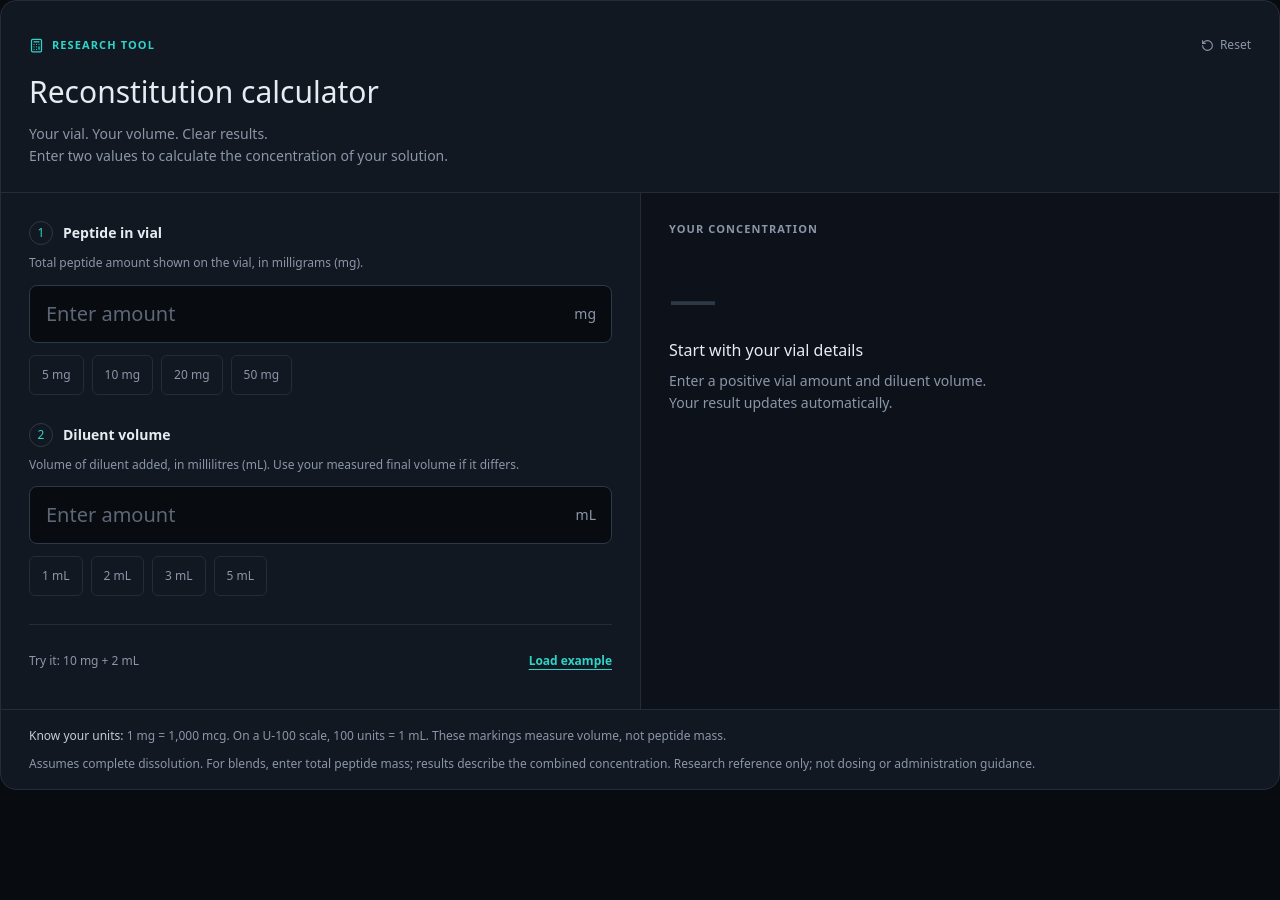
starts without assumed quantities and calculates live from both inputs
Type "10" into the field labelled "Peptide in vial" at (320, 314), box top-left (29, 284), bottom-right (612, 342)
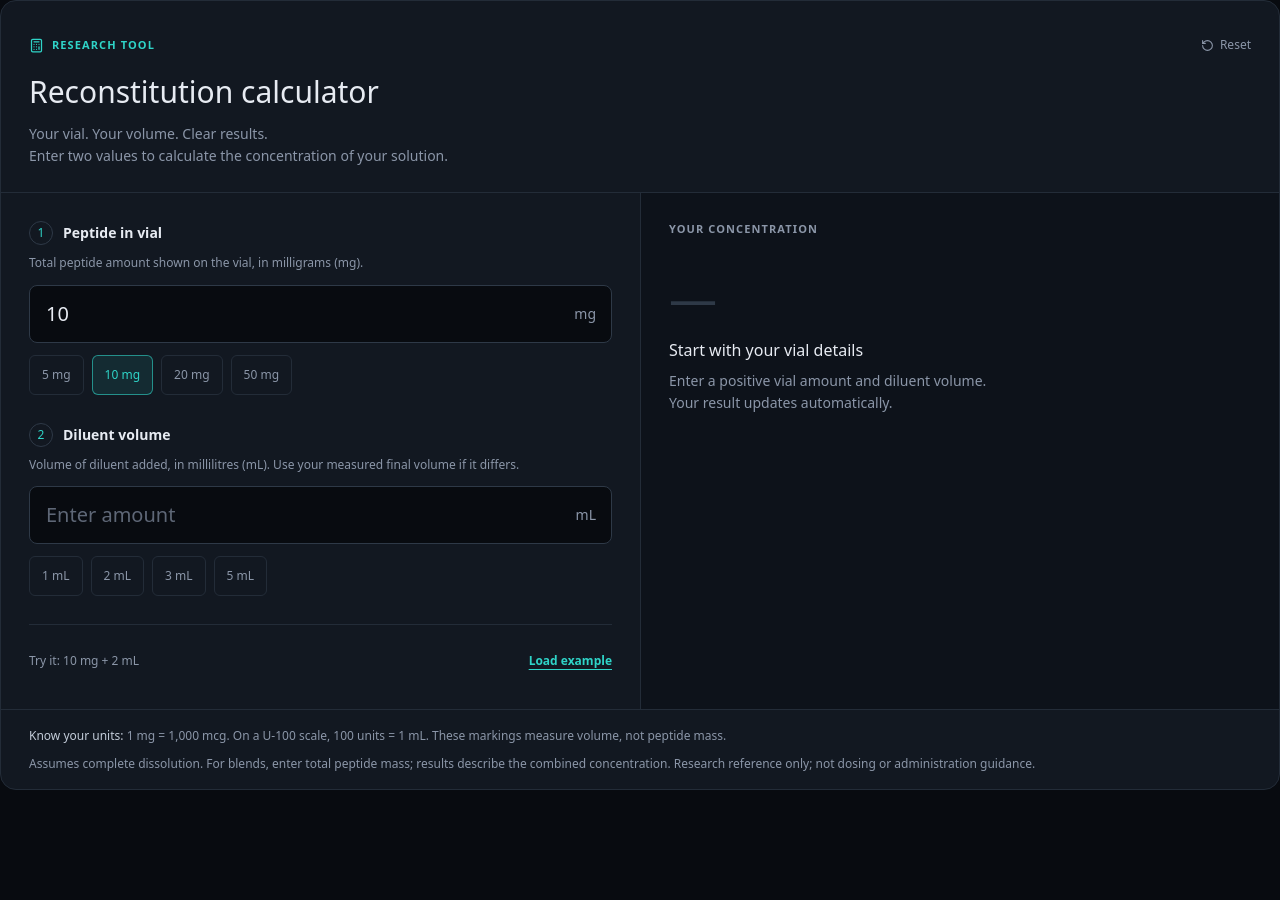
Type "2" into the field labelled "Diluent volume" at (320, 515), box top-left (29, 486), bottom-right (612, 544)
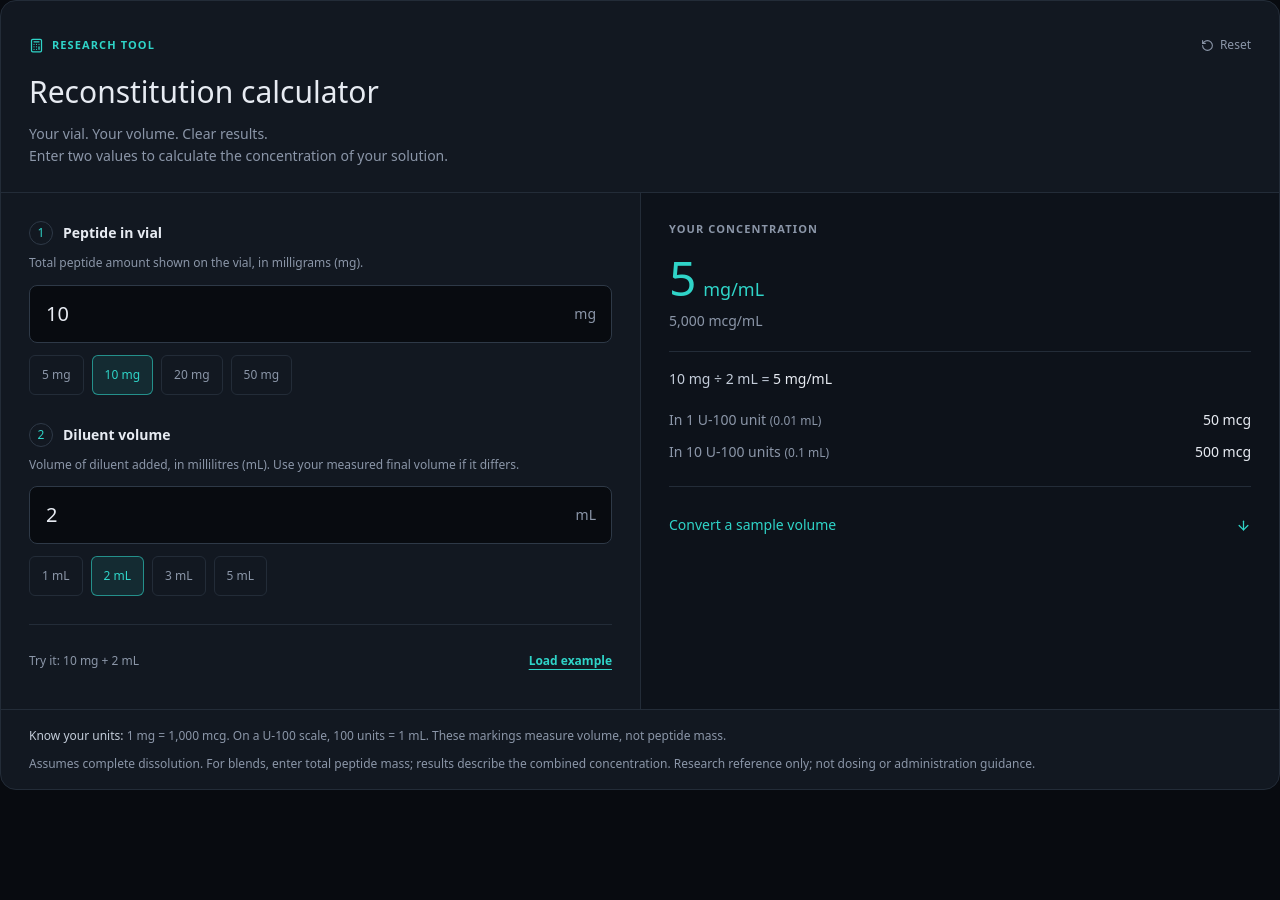
Check: the element named "Concentration result" reads "5 mg/mL", box top-left (669, 244), bottom-right (764, 310)
Check: the text named "Concentration in micrograms" reads "5,000 mcg/mL", box top-left (669, 310), bottom-right (762, 330)
Replace the text in the field labelled "Peptide in vial" with "5" at (320, 314), box top-left (29, 284), bottom-right (612, 342)
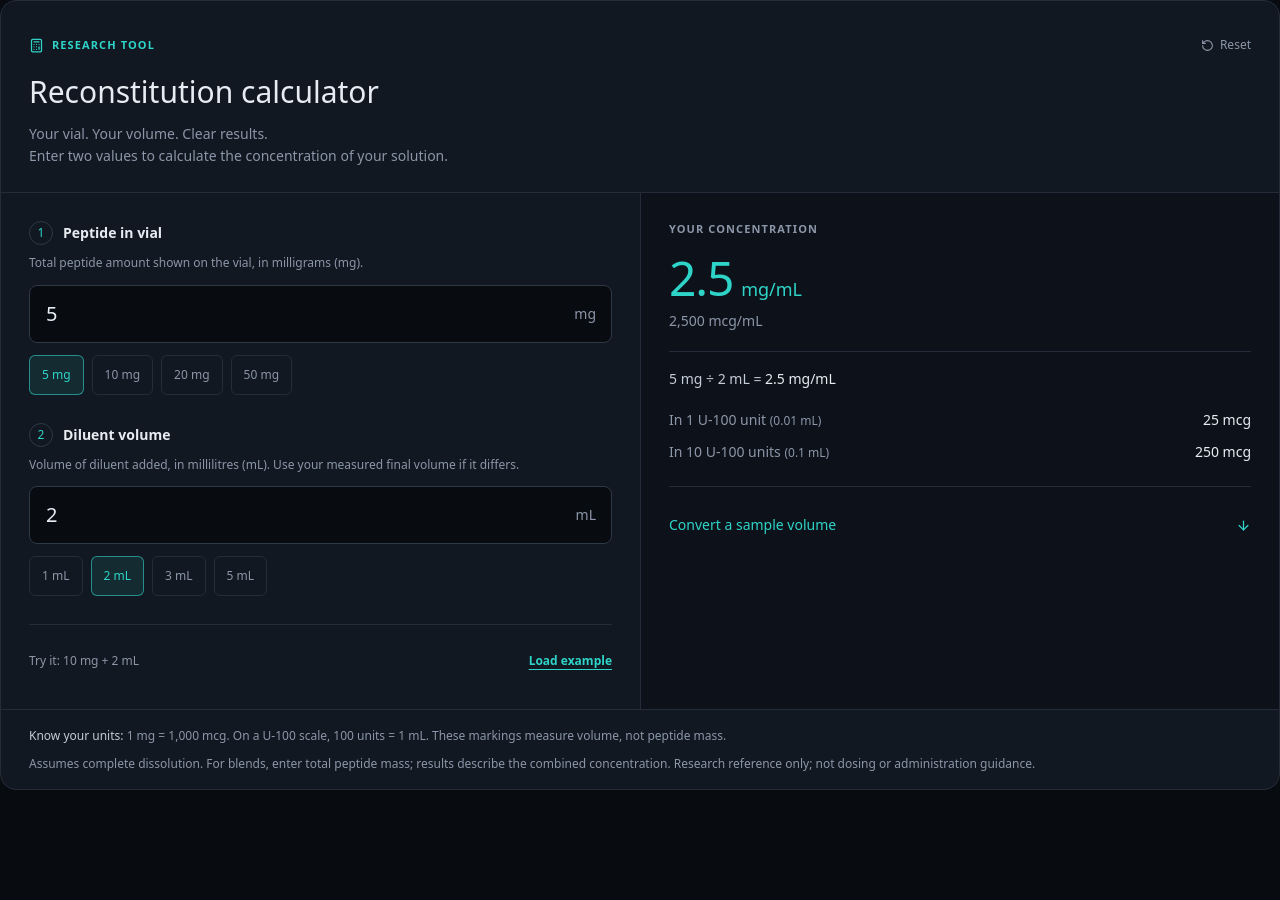
Replace the text in the field labelled "Diluent volume" with "2.5" at (320, 515), box top-left (29, 486), bottom-right (612, 544)
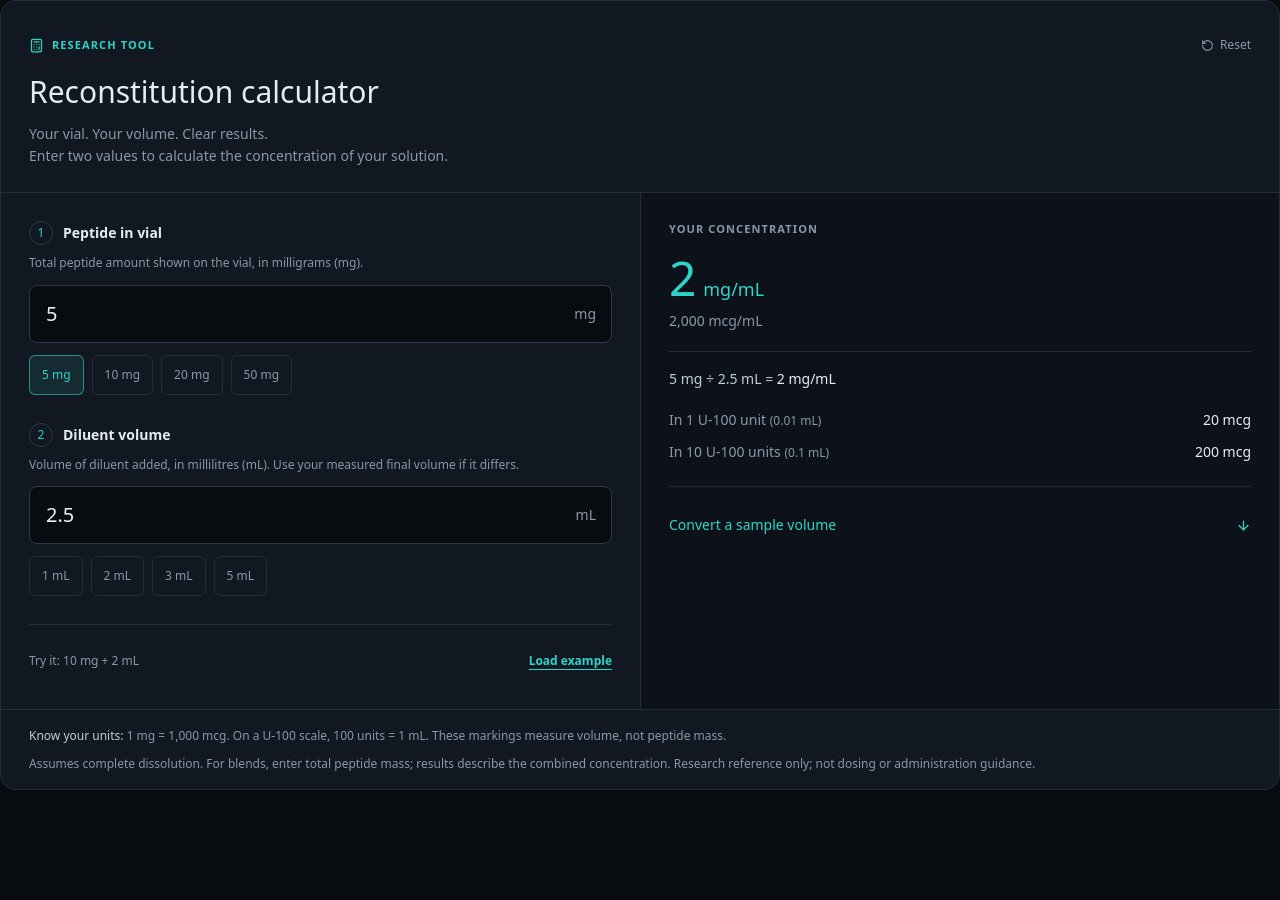
Check: the element named "Concentration result" reads "2 mg/mL", box top-left (669, 244), bottom-right (764, 310)
